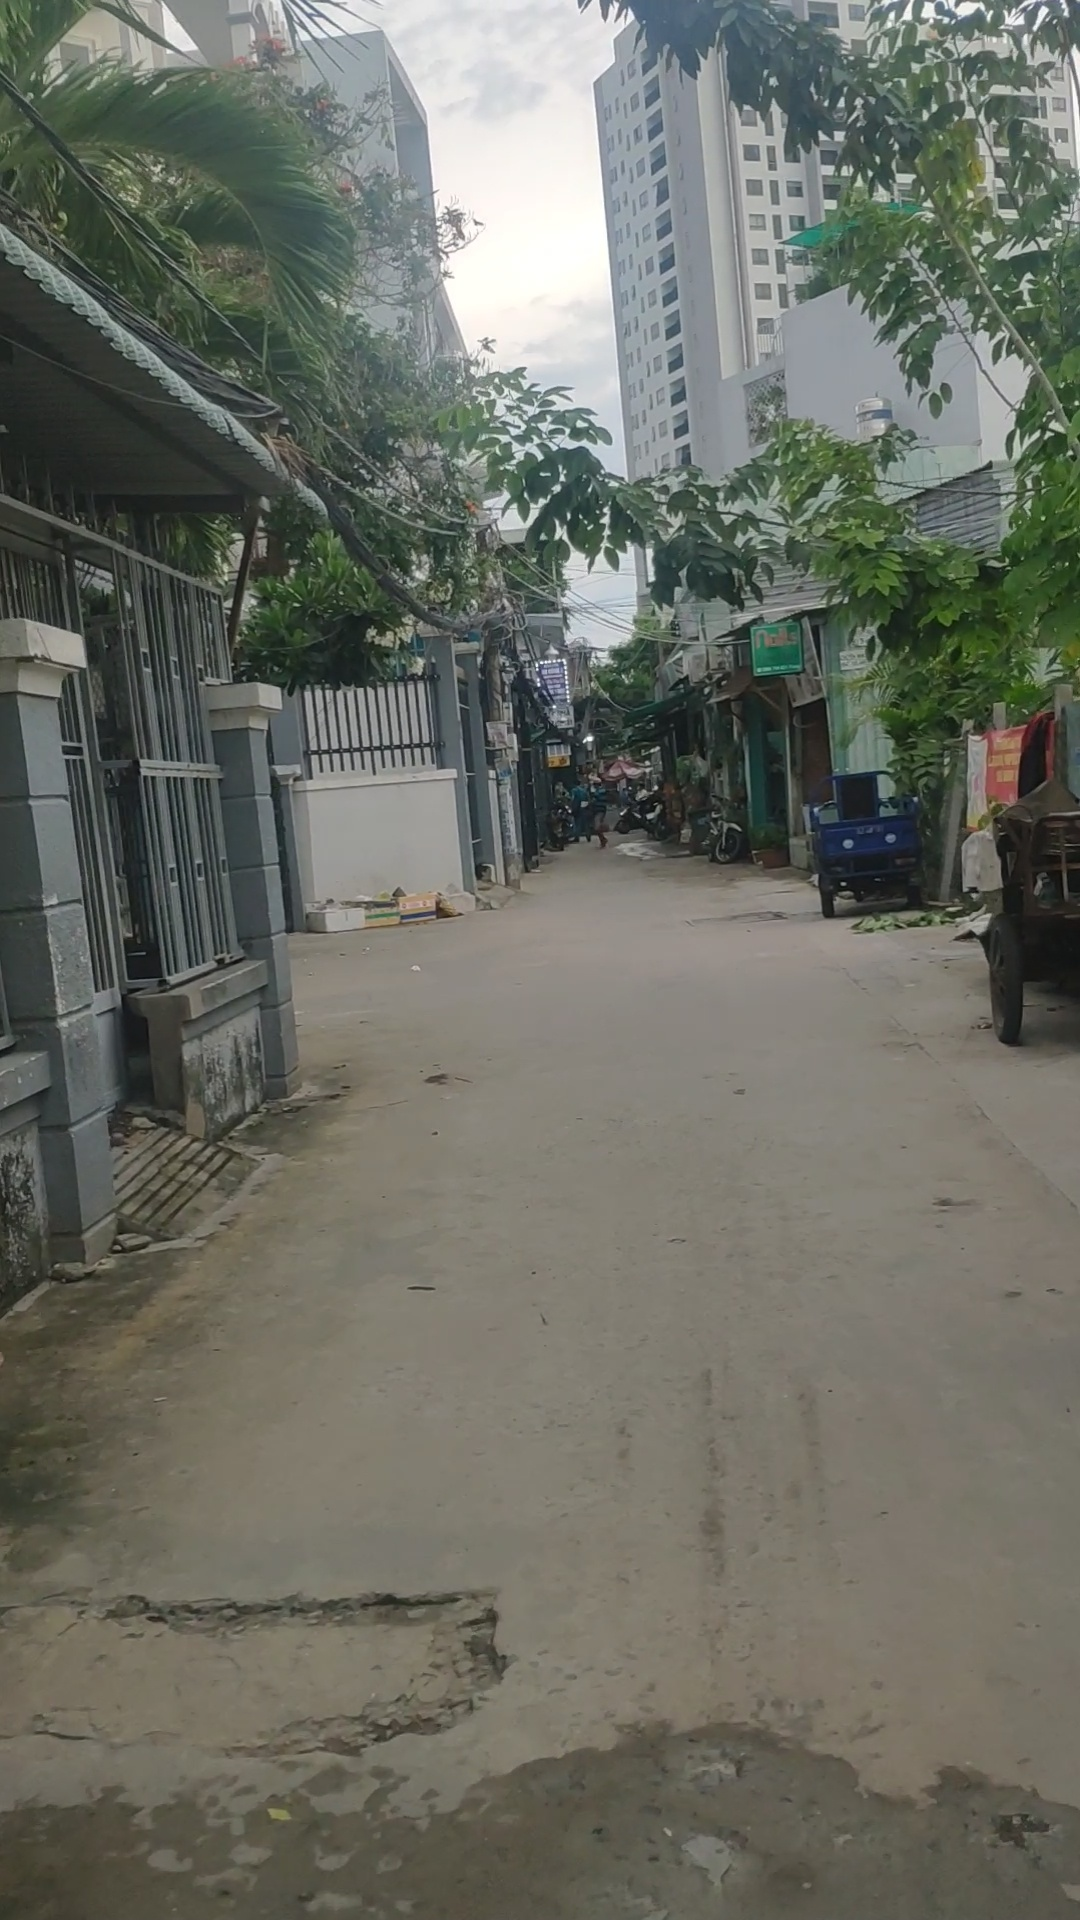hole: (1, 1585, 498, 1747), (645, 1809, 785, 1912), (955, 1776, 1069, 1866), (646, 1722, 774, 1799)
